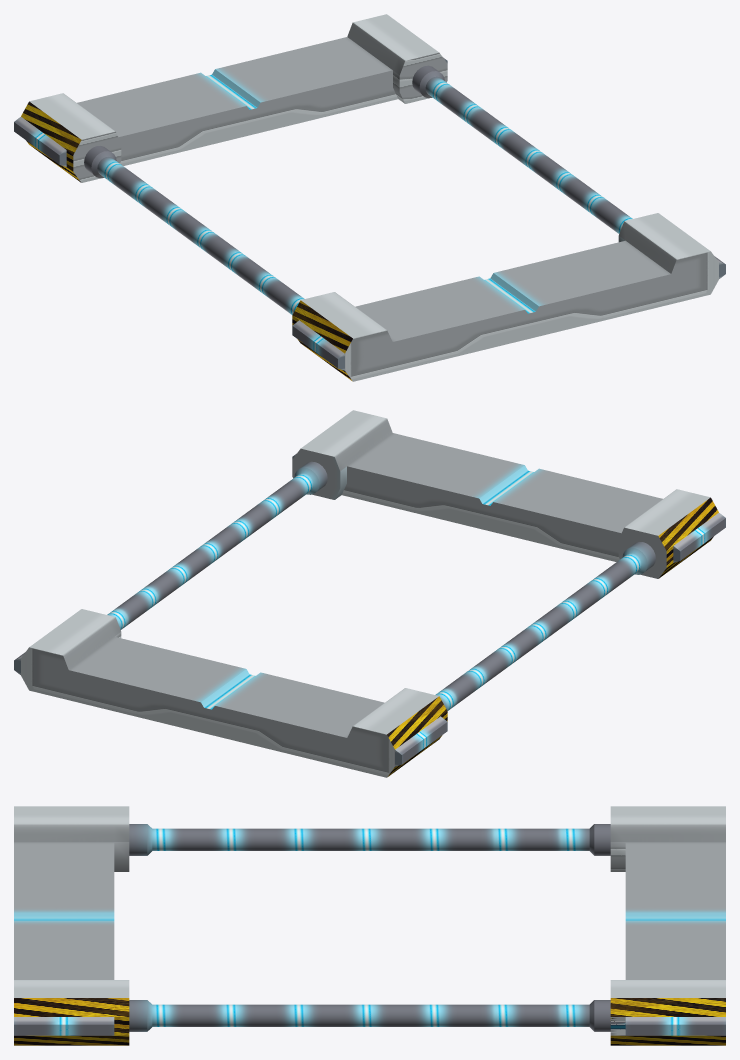
File: Tile_gap_1.fbx
The picture shows the model from 3 angles, top to bottom: view 1: azimuth 30°, elevation 25°; view 2: azimuth 150°, elevation 25°; view 3: azimuth 270°, elevation 25°; orthographic projection. The views are drawn at different scales.
Parts seen in each view (by area): view 1: Tile_gap_1; view 2: Tile_gap_1; view 3: Tile_gap_1.
Part boxes in pixels (left/top/right/bottom): Tile_gap_1: left=14, top=14, right=725, bottom=381; Tile_gap_1: left=14, top=410, right=725, bottom=777; Tile_gap_1: left=14, top=806, right=725, bottom=1045.
Size of the model in its own units: 4.15 by 0.4422 by 6.
1 material, 1 textured.
